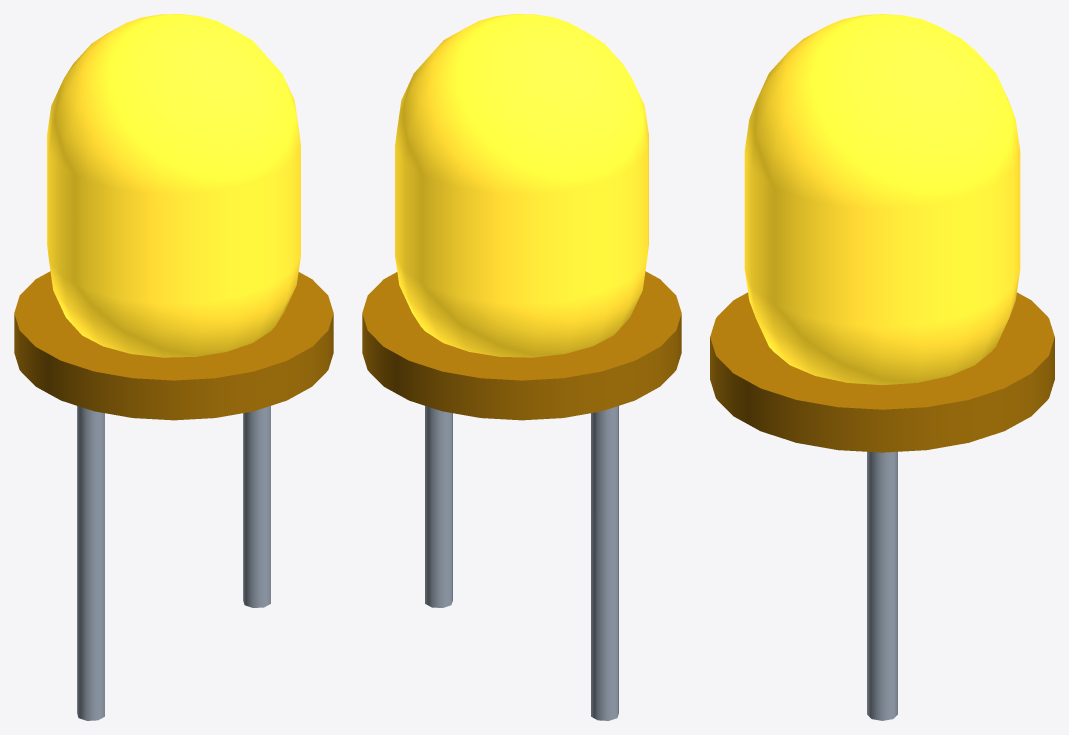
The model's file is led-yellow.gltf.
The picture shows the model from 3 angles, left to right: view 1: azimuth 30°, elevation 25°; view 2: azimuth 150°, elevation 25°; view 3: azimuth 270°, elevation 25°; orthographic projection. The views are drawn at different scales.
Parts seen in each view (by area): view 1: lens, collar, anode, cathode; view 2: lens, collar, anode, cathode; view 3: lens, collar, cathode.
Boxes of the visible parts, box(x1,y1,x2,y2) form: lens: box(47, 14, 300, 357); collar: box(14, 271, 333, 420); anode: box(77, 406, 104, 720); cathode: box(243, 406, 270, 607); lens: box(395, 14, 648, 357); collar: box(362, 271, 681, 420); anode: box(591, 406, 618, 720); cathode: box(425, 406, 452, 607); lens: box(744, 14, 1020, 385); collar: box(710, 292, 1054, 452); cathode: box(867, 451, 897, 720).
Size of the model in its own units: 0.4 by 0.925 by 0.4.
